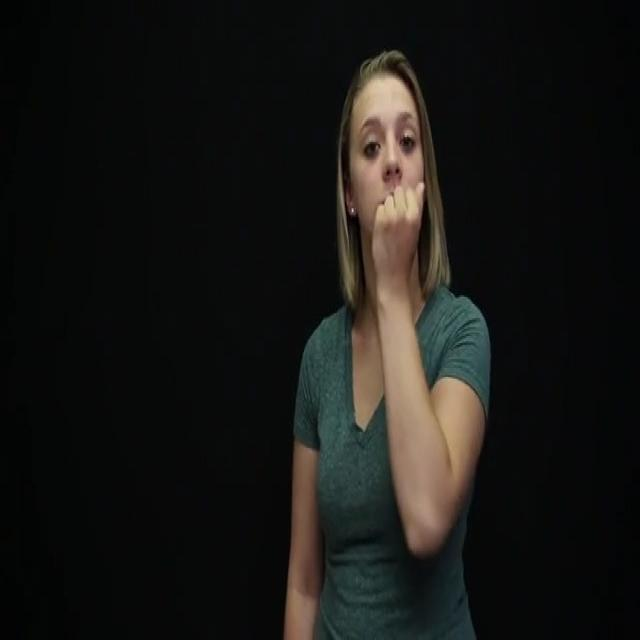warm: (367, 172, 441, 304)
